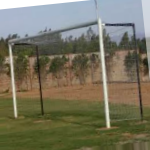goals: (7, 16, 146, 133)
